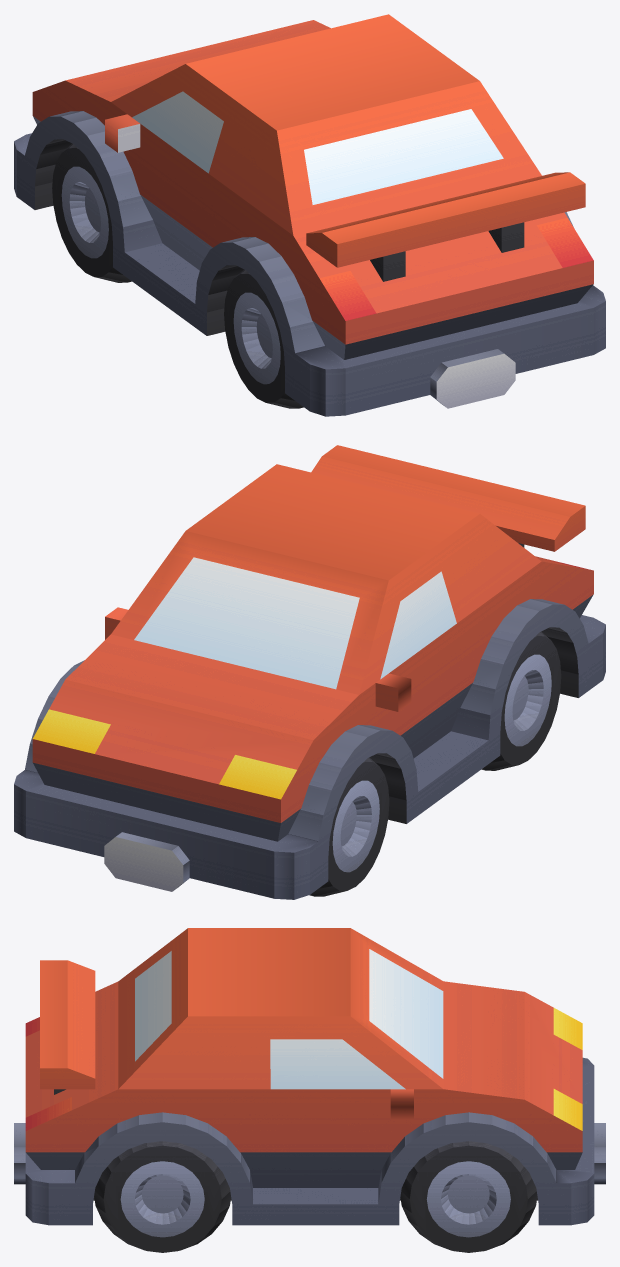
The model's file is sedan-sports.glb.
3 renders of one model, top to bottom at view 1: azimuth 30°, elevation 25°; view 2: azimuth 150°, elevation 25°; view 3: azimuth 270°, elevation 25°, orthographic. The views are drawn at different scales.
Parts seen in each view (by area): view 1: body, spoiler, wheel-back-right, wheel-front-right; view 2: body, spoiler, wheel-front-right, wheel-back-right; view 3: body, wheel-back-left, wheel-front-left, spoiler.
Part boxes in pixels (x1,y1,x2,y2): body: (14, 14, 605, 416); spoiler: (306, 172, 585, 281); wheel-back-right: (224, 269, 303, 408); wheel-front-right: (52, 143, 131, 282); body: (14, 464, 605, 899); spoiler: (311, 445, 585, 551); wheel-front-right: (309, 757, 389, 896); wheel-back-right: (481, 632, 561, 770); body: (14, 928, 605, 1225); wheel-back-left: (94, 1141, 230, 1252); wheel-front-left: (400, 1141, 537, 1252); spoiler: (40, 960, 95, 1094).
Size of the model in its own units: 1.3 by 1.1 by 2.55.
1 material, 1 textured.
